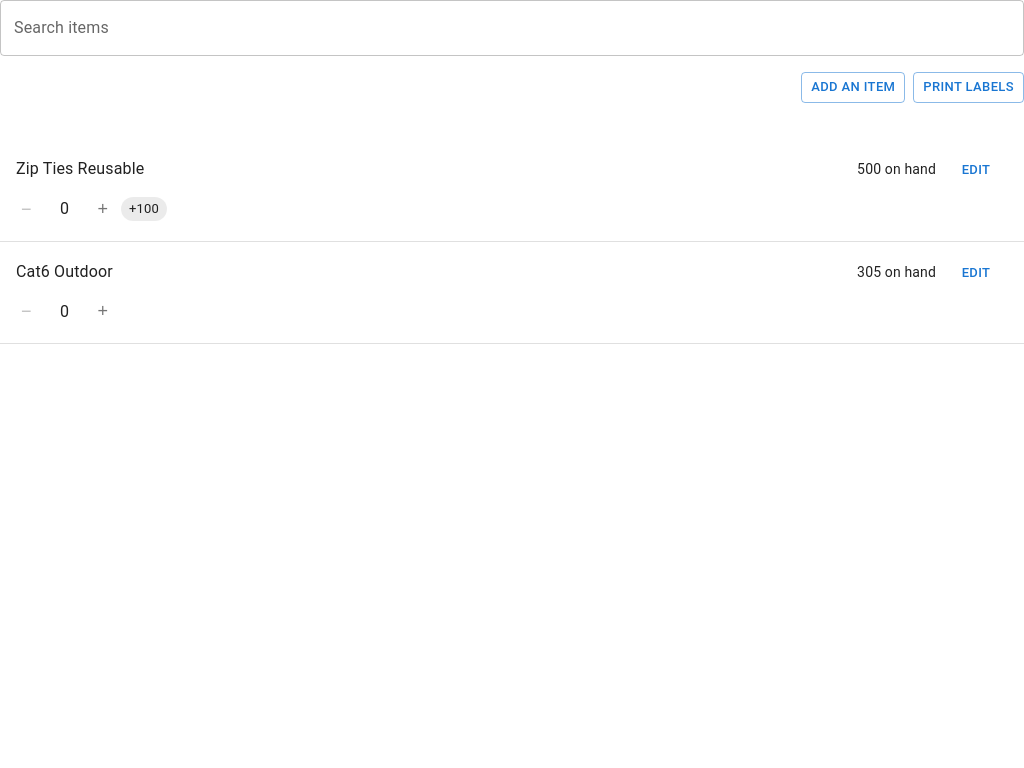
Test: what an administrator sees › retires an item rather than deleting it
Expected: the heading "Zip Ties Reusable" is shown, top-left (16, 155), bottom-right (144, 183)
Click the button with aria-label "edit zip ties reusable": (976,170) top-left (944, 155), bottom-right (1008, 186)
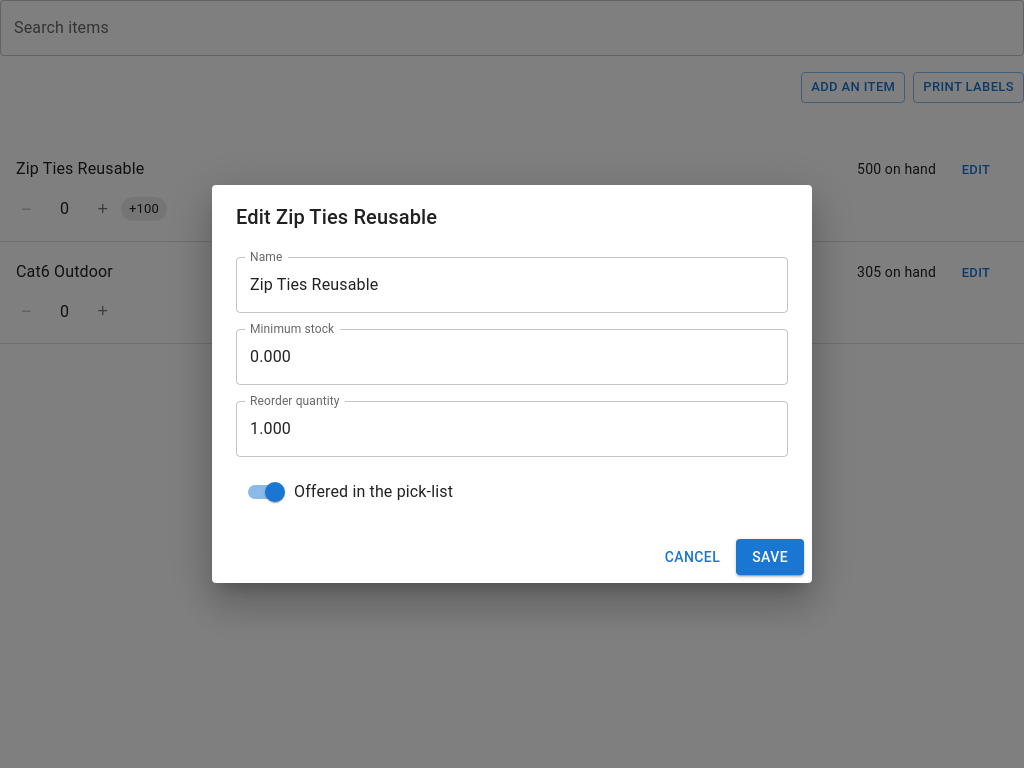
Expected: the switch labelled "Offered in the pick-list" is checked, top-left (248, 482), bottom-right (453, 502)
